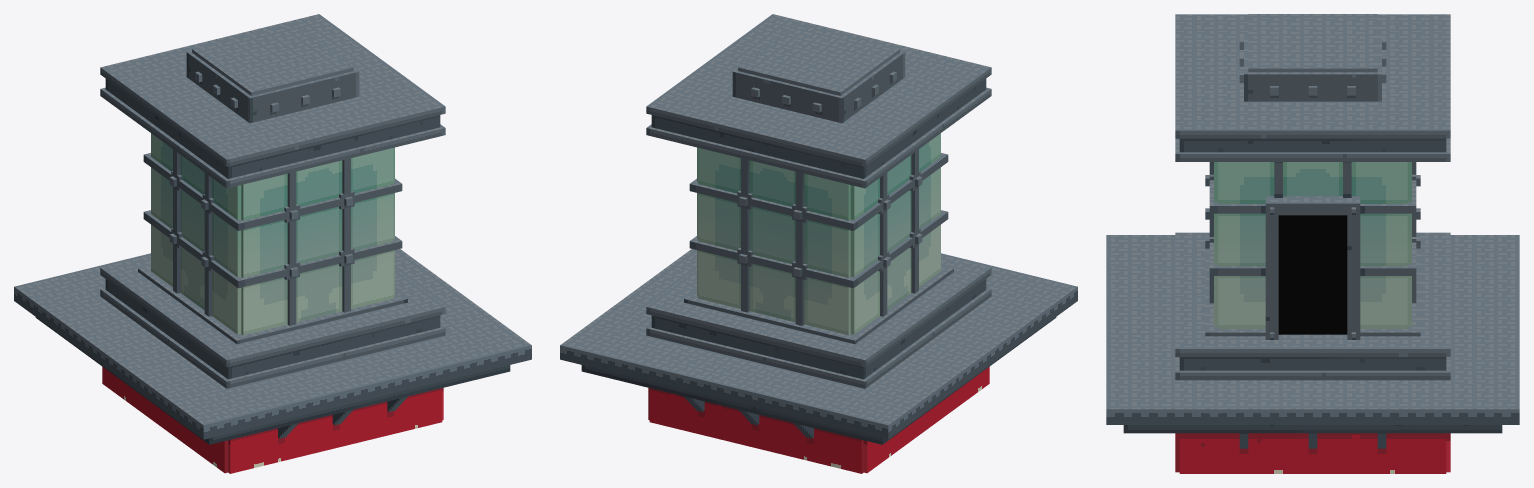
Rendered from lighthouse_topao.fezao.glb.
The picture shows the model from 3 angles, left to right: view 1: azimuth 30°, elevation 25°; view 2: azimuth 150°, elevation 25°; view 3: azimuth 270°, elevation 25°; orthographic projection. The views are drawn at different scales.
Visible parts, largest first — view 1: LIGHTHOUSE_TOPAO; view 2: LIGHTHOUSE_TOPAO; view 3: LIGHTHOUSE_TOPAO.
Boxes of the visible parts, box(x1,y1,x2,y2) form: LIGHTHOUSE_TOPAO: box(14, 14, 531, 473); LIGHTHOUSE_TOPAO: box(560, 14, 1077, 473); LIGHTHOUSE_TOPAO: box(1106, 14, 1519, 473).
Bounding box in the file's own units: 6 × 6 × 6.
Materials: 1 (1 with a texture image).
